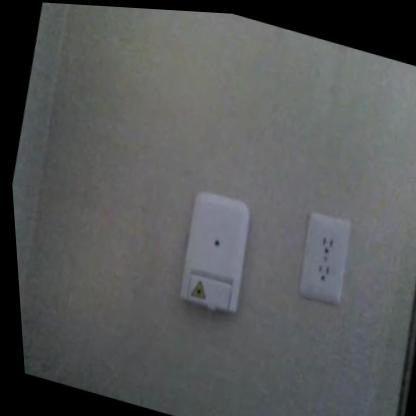OUTLET: (291, 209, 359, 307)
